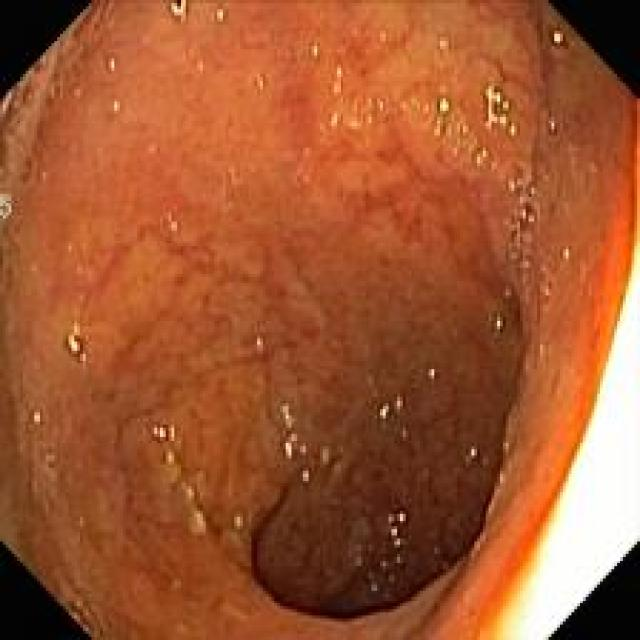ulcerative-colitis-grade-1: (1, 0, 640, 638)
